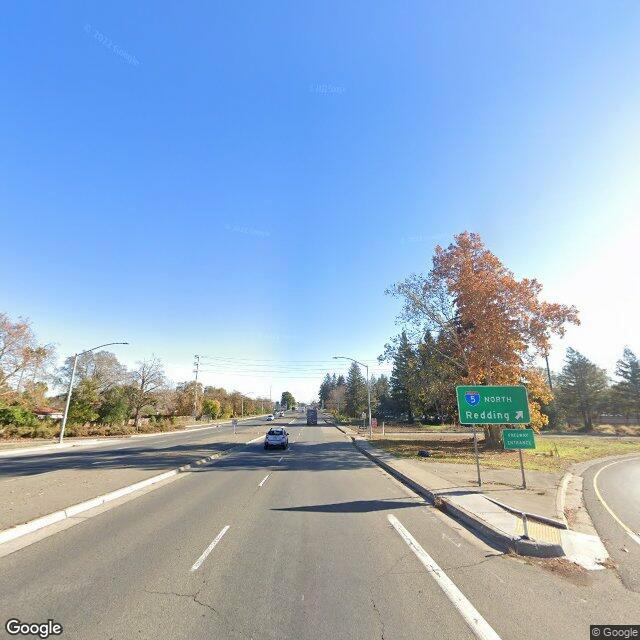crack: (143, 579, 219, 614), (383, 555, 495, 577), (365, 587, 391, 639)
